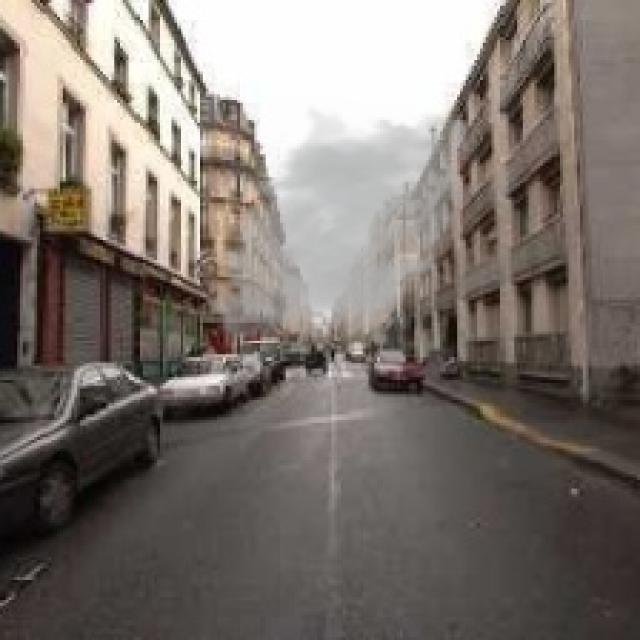Smoke: (208, 94, 481, 366)
